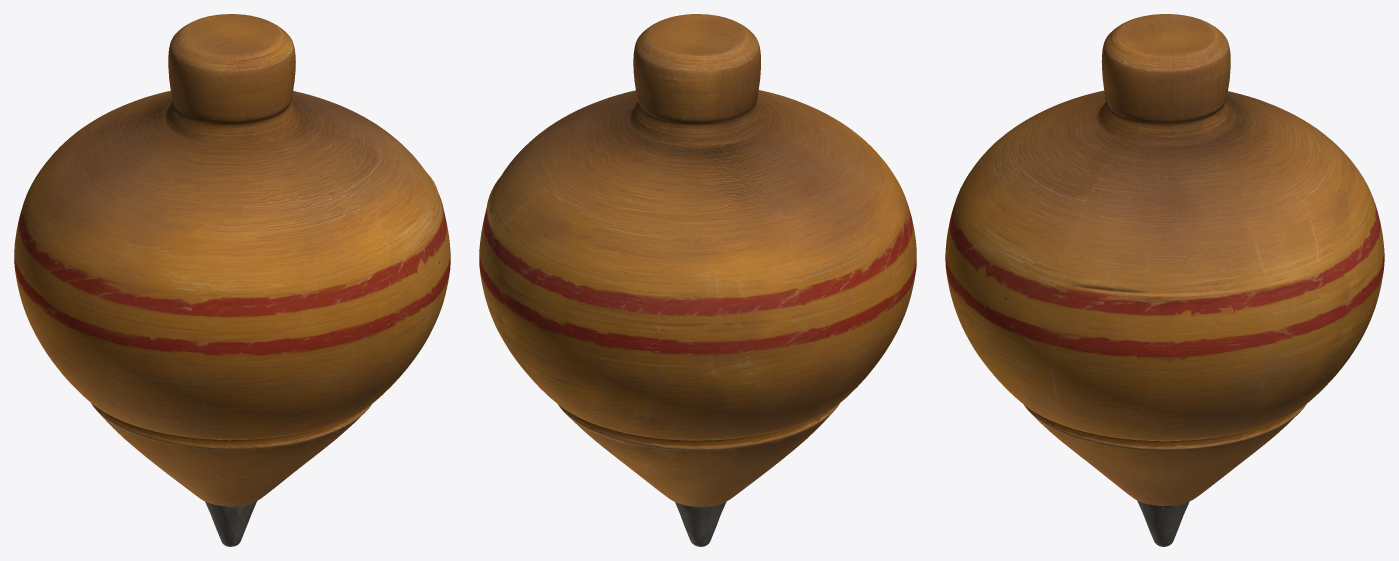
The model's file is WoodenSpinningTop.fbx.
3 views of the same model, side by side, from view 1: azimuth 30°, elevation 25°; view 2: azimuth 150°, elevation 25°; view 3: azimuth 270°, elevation 25° (orthographic).
Visible parts, largest first — view 1: WoodenSpinningTop; view 2: WoodenSpinningTop; view 3: WoodenSpinningTop.
Boxes of the visible parts, <box> form: WoodenSpinningTop: <box>14,14,450,546</box>; WoodenSpinningTop: <box>479,14,916,546</box>; WoodenSpinningTop: <box>945,14,1384,546</box>.
Size of the model in its own units: 6.05 by 7.8 by 6.07.
Materials: 1 (1 with a texture image).
